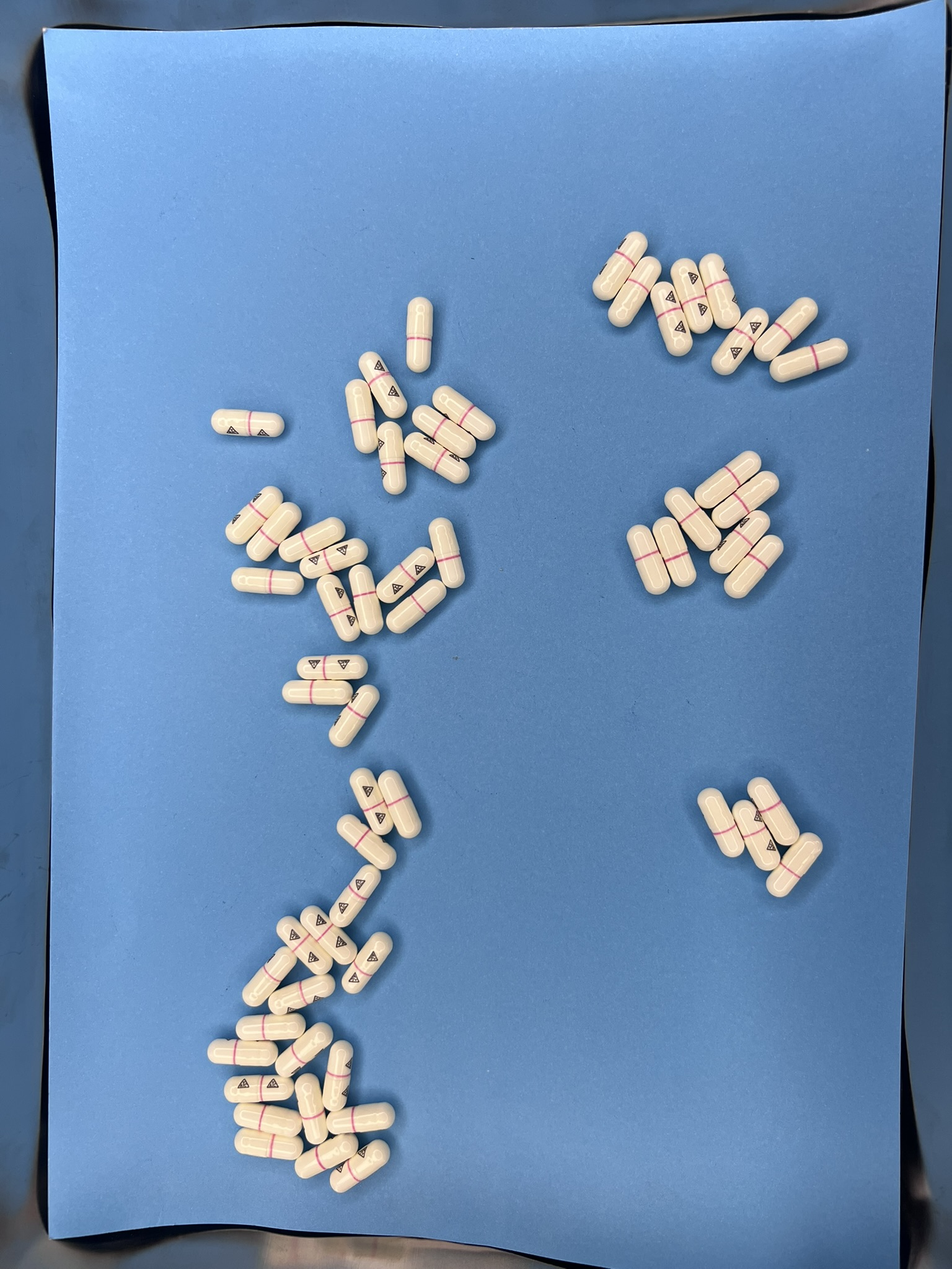Capsule: (753, 296, 819, 362), (721, 532, 784, 599), (243, 942, 306, 1009), (708, 508, 771, 575), (712, 469, 781, 530), (607, 255, 663, 329), (694, 450, 764, 509), (712, 305, 770, 376), (766, 831, 823, 899), (592, 231, 646, 302), (748, 776, 801, 848), (403, 431, 472, 486), (432, 384, 497, 442), (245, 501, 304, 563), (770, 337, 849, 383), (412, 404, 478, 459), (664, 486, 718, 553), (732, 798, 781, 871), (225, 486, 284, 546), (386, 578, 449, 634), (377, 546, 437, 604), (277, 915, 333, 977), (275, 1021, 334, 1079), (301, 904, 356, 966), (278, 516, 347, 565), (331, 867, 383, 930), (359, 351, 407, 419), (337, 815, 396, 870), (652, 517, 697, 589), (330, 682, 380, 746), (344, 930, 393, 994), (332, 1137, 390, 1191), (699, 253, 739, 331), (698, 789, 743, 858), (316, 573, 360, 643), (651, 281, 692, 355), (350, 769, 395, 836), (670, 257, 709, 334), (378, 770, 422, 838), (298, 537, 367, 580), (296, 1134, 358, 1181), (268, 974, 335, 1017), (628, 525, 669, 595), (428, 517, 464, 589), (348, 565, 383, 636), (233, 1103, 303, 1138), (345, 380, 378, 454), (326, 1101, 395, 1136), (235, 1127, 305, 1161), (294, 1074, 328, 1143), (322, 1040, 354, 1112), (377, 421, 407, 496), (235, 1010, 305, 1042), (212, 408, 285, 438), (405, 298, 433, 373), (232, 567, 304, 596), (207, 1039, 278, 1068), (222, 1074, 295, 1102), (282, 680, 355, 707), (298, 654, 370, 680)
